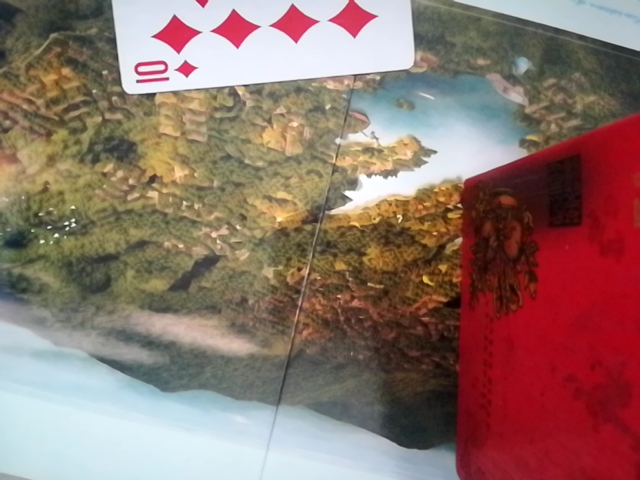fk 10: (104, 0, 416, 95)
